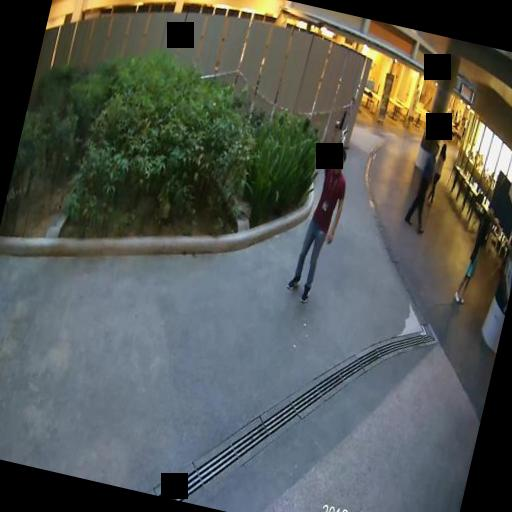Handgun: (333, 108, 346, 130)
